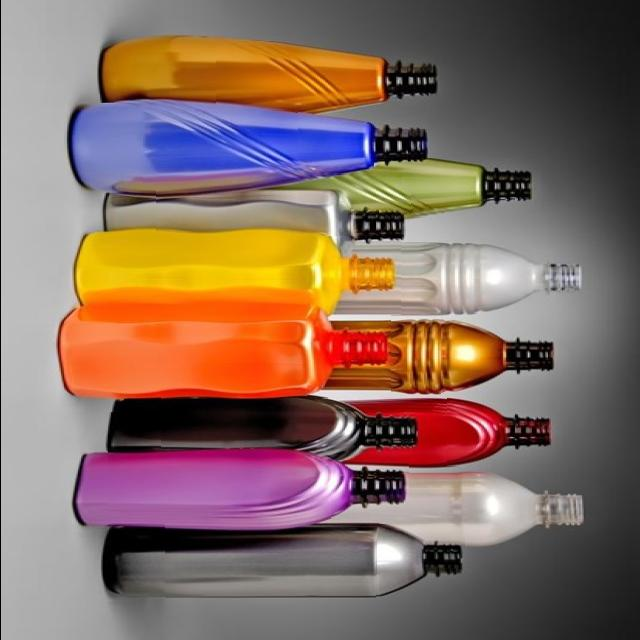bottom: (64, 95, 141, 203), (52, 301, 122, 412), (99, 27, 180, 103), (95, 524, 163, 602), (70, 229, 132, 308), (62, 450, 107, 533), (101, 395, 159, 451), (93, 190, 154, 235)
neck: (215, 41, 438, 110), (440, 320, 558, 395), (297, 110, 426, 174), (306, 301, 390, 398), (446, 396, 562, 466), (481, 471, 585, 549), (401, 159, 539, 217), (472, 244, 586, 313), (313, 236, 399, 315), (375, 525, 463, 598), (331, 186, 410, 252), (328, 403, 420, 459), (330, 461, 407, 518)
